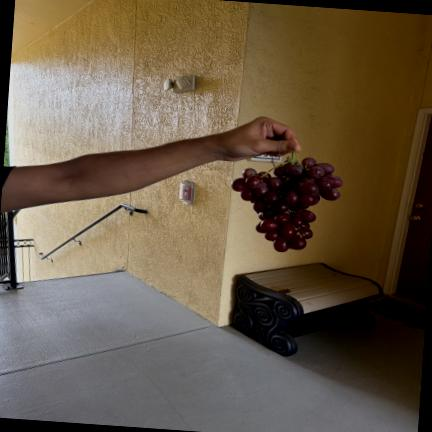grape_cluster: (230, 152, 343, 252)
